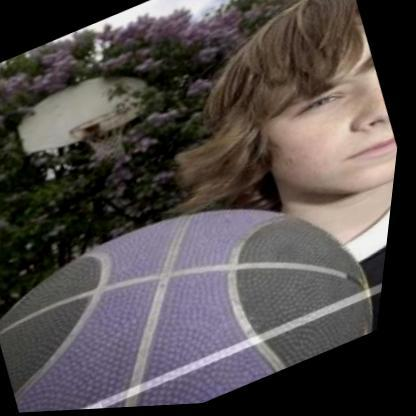basketball: (0, 143, 402, 415)
